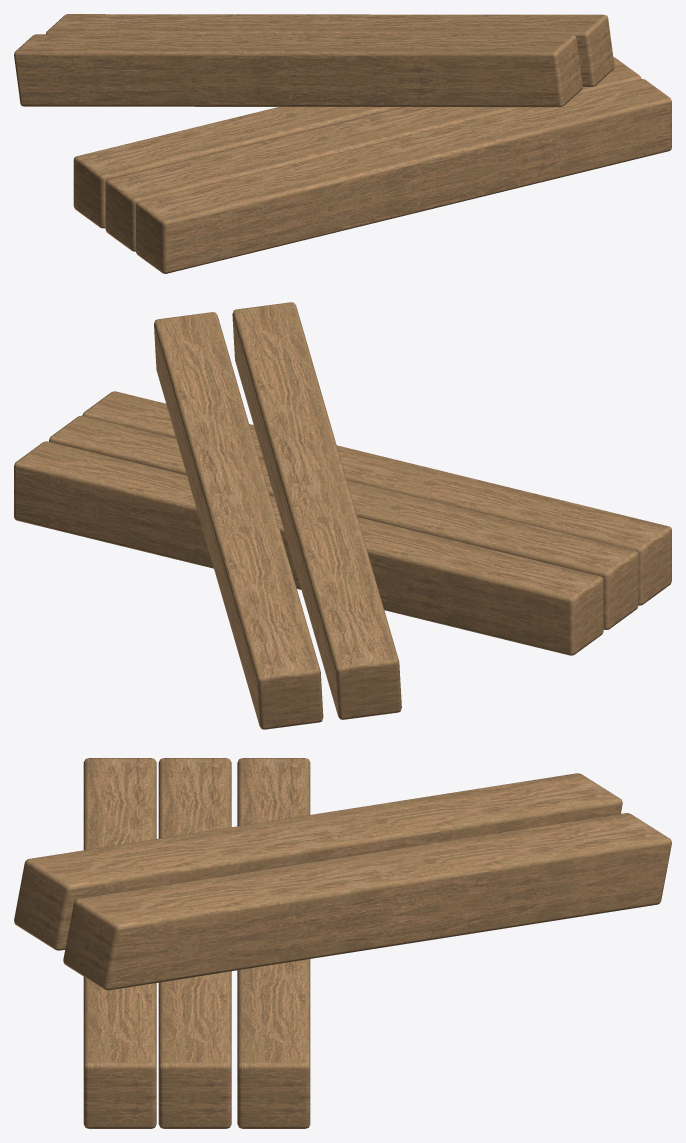
The model's file is Ingredlents_Wood.fbx.
3 views of the same model, one above another, from view 1: azimuth 30°, elevation 25°; view 2: azimuth 150°, elevation 25°; view 3: azimuth 270°, elevation 25° (orthographic). The views are drawn at different scales.
Parts seen in each view (by area): view 1: Wood1; view 2: Wood1; view 3: Wood1.
Boxes of the visible parts, x1,y1,x2,y2 form: Wood1: [14, 14, 671, 273]; Wood1: [14, 302, 671, 729]; Wood1: [14, 758, 671, 1128].
Size of the model in its own units: 10 by 2.82 by 9.02.
1 material, 1 textured.
